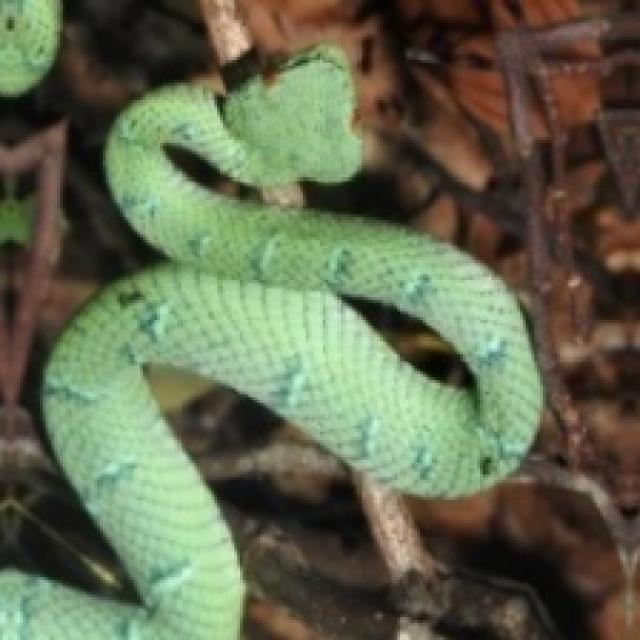north ph temple pitviper: (0, 49, 557, 637)
